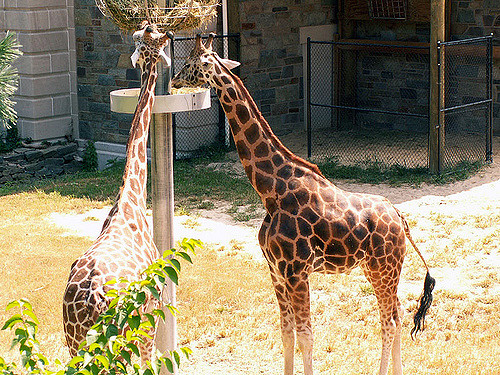giraffe: (174, 30, 456, 360), (73, 17, 180, 354)
